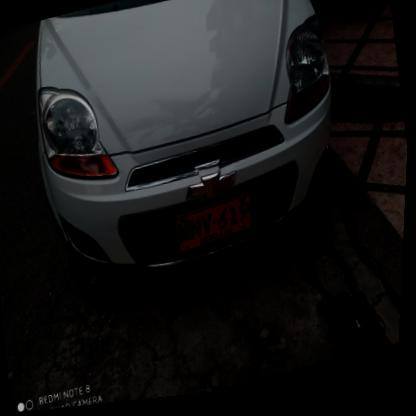placa: (169, 196, 261, 261)
